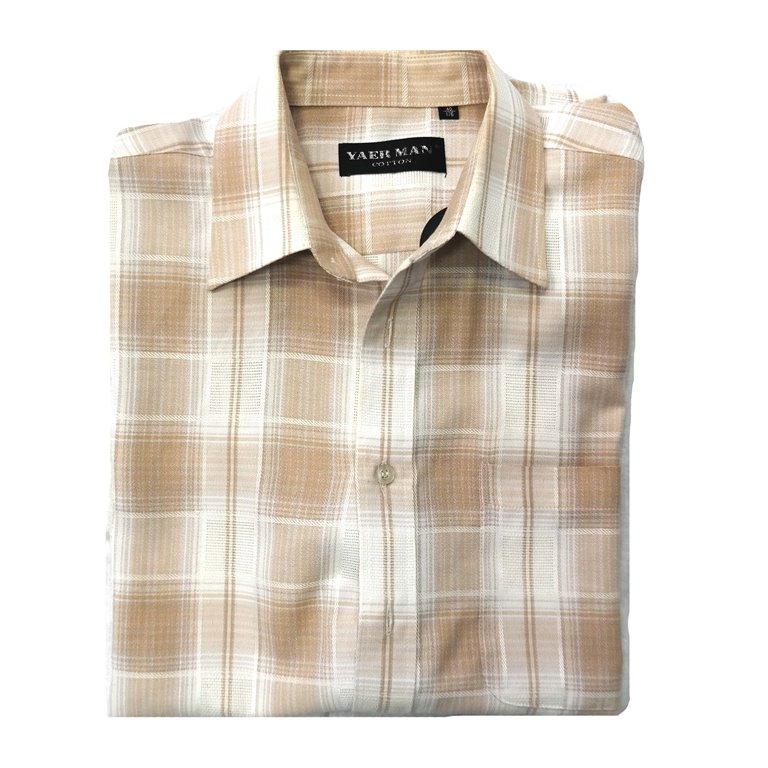squared: (121, 51, 620, 709)
